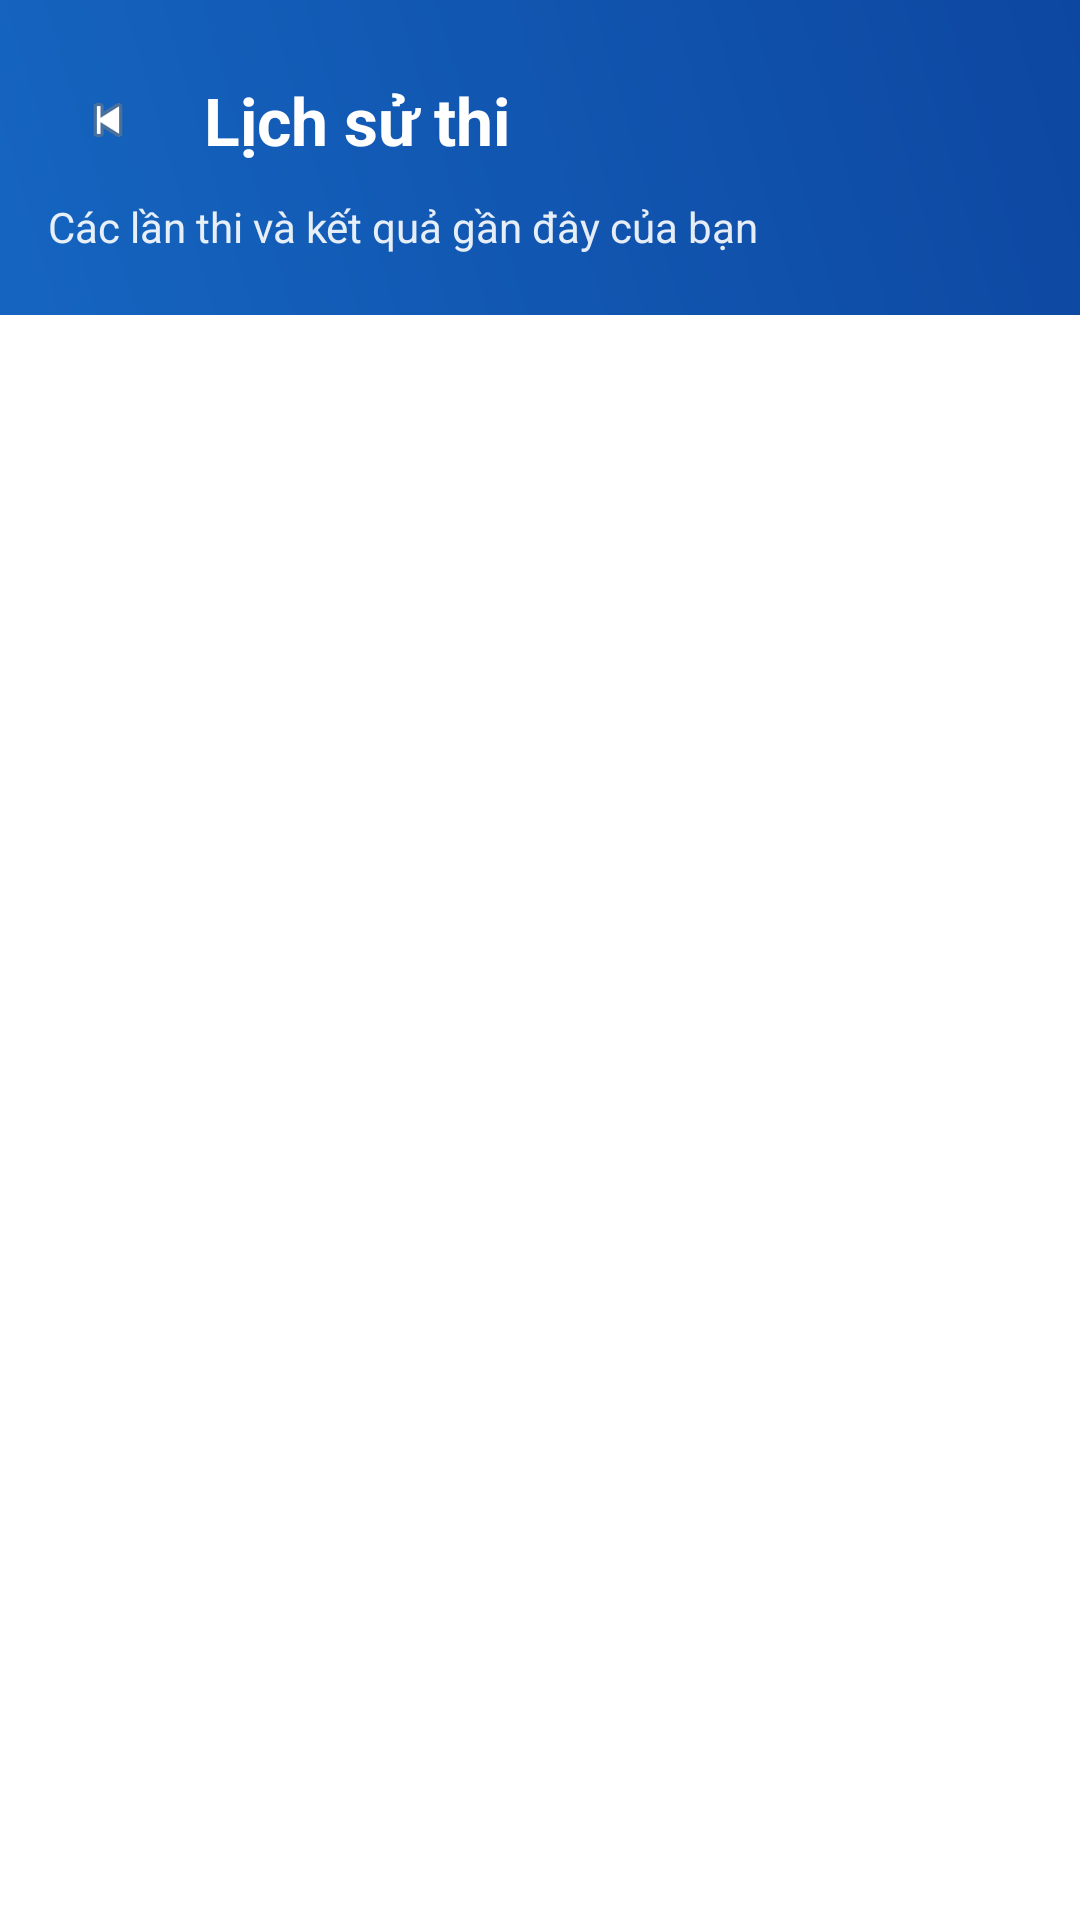

Icons on this 1080 × 1920 Android screen, each with its box as (x1, y1, x2, y2):
Quay lại: (94, 103, 122, 137)
